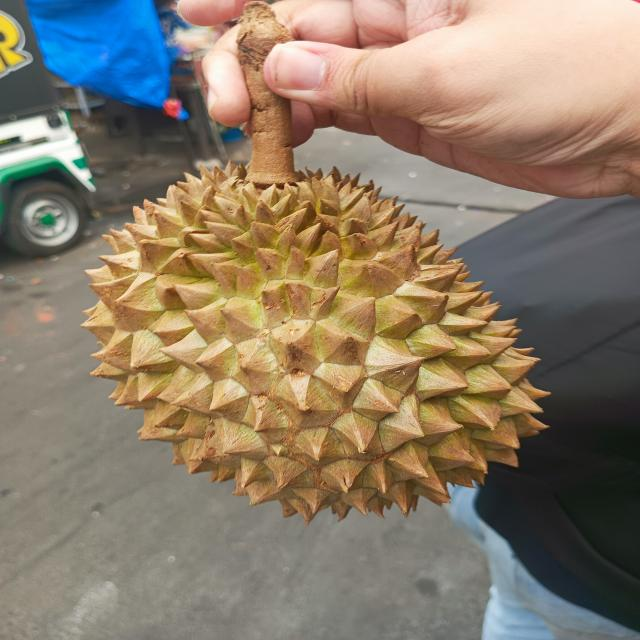mature: (78, 155, 543, 517)
